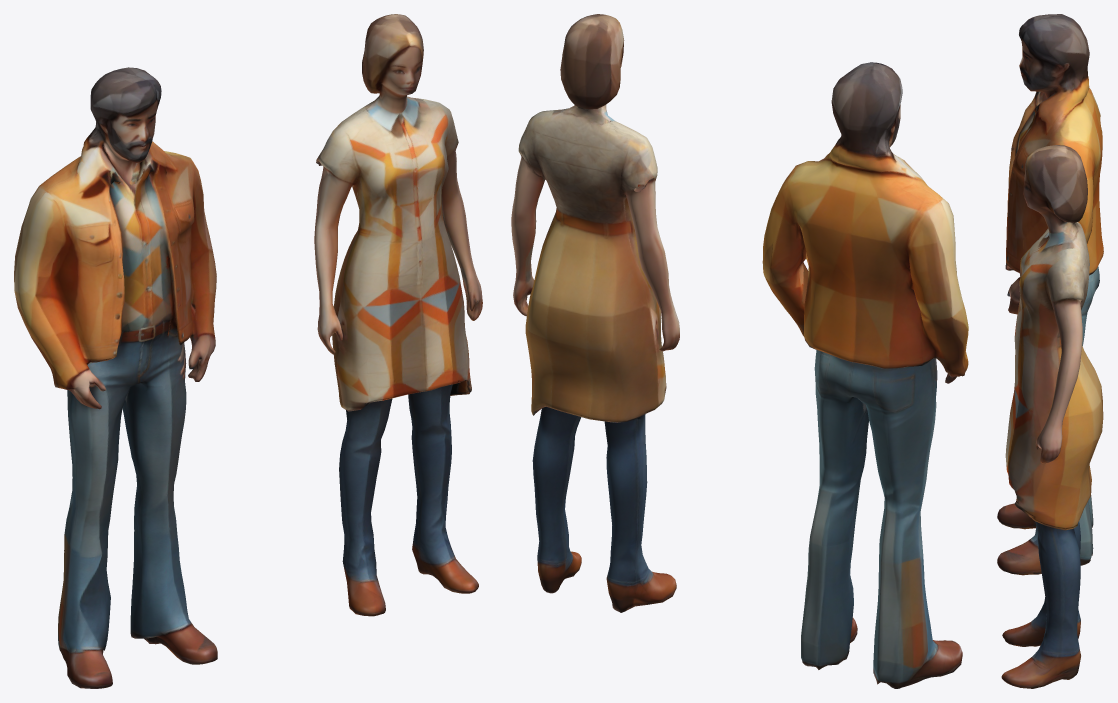
The model's file is Meshy_AI_1970_s_Geometric_Oran_0221052039_texture.glb.
3 views of the same model, side by side, from view 1: azimuth 30°, elevation 25°; view 2: azimuth 150°, elevation 25°; view 3: azimuth 270°, elevation 25° (orthographic). The views are drawn at different scales.
Bounding box in the file's own units: 1.61 × 2 × 0.3652.
1 material, 1 textured.
